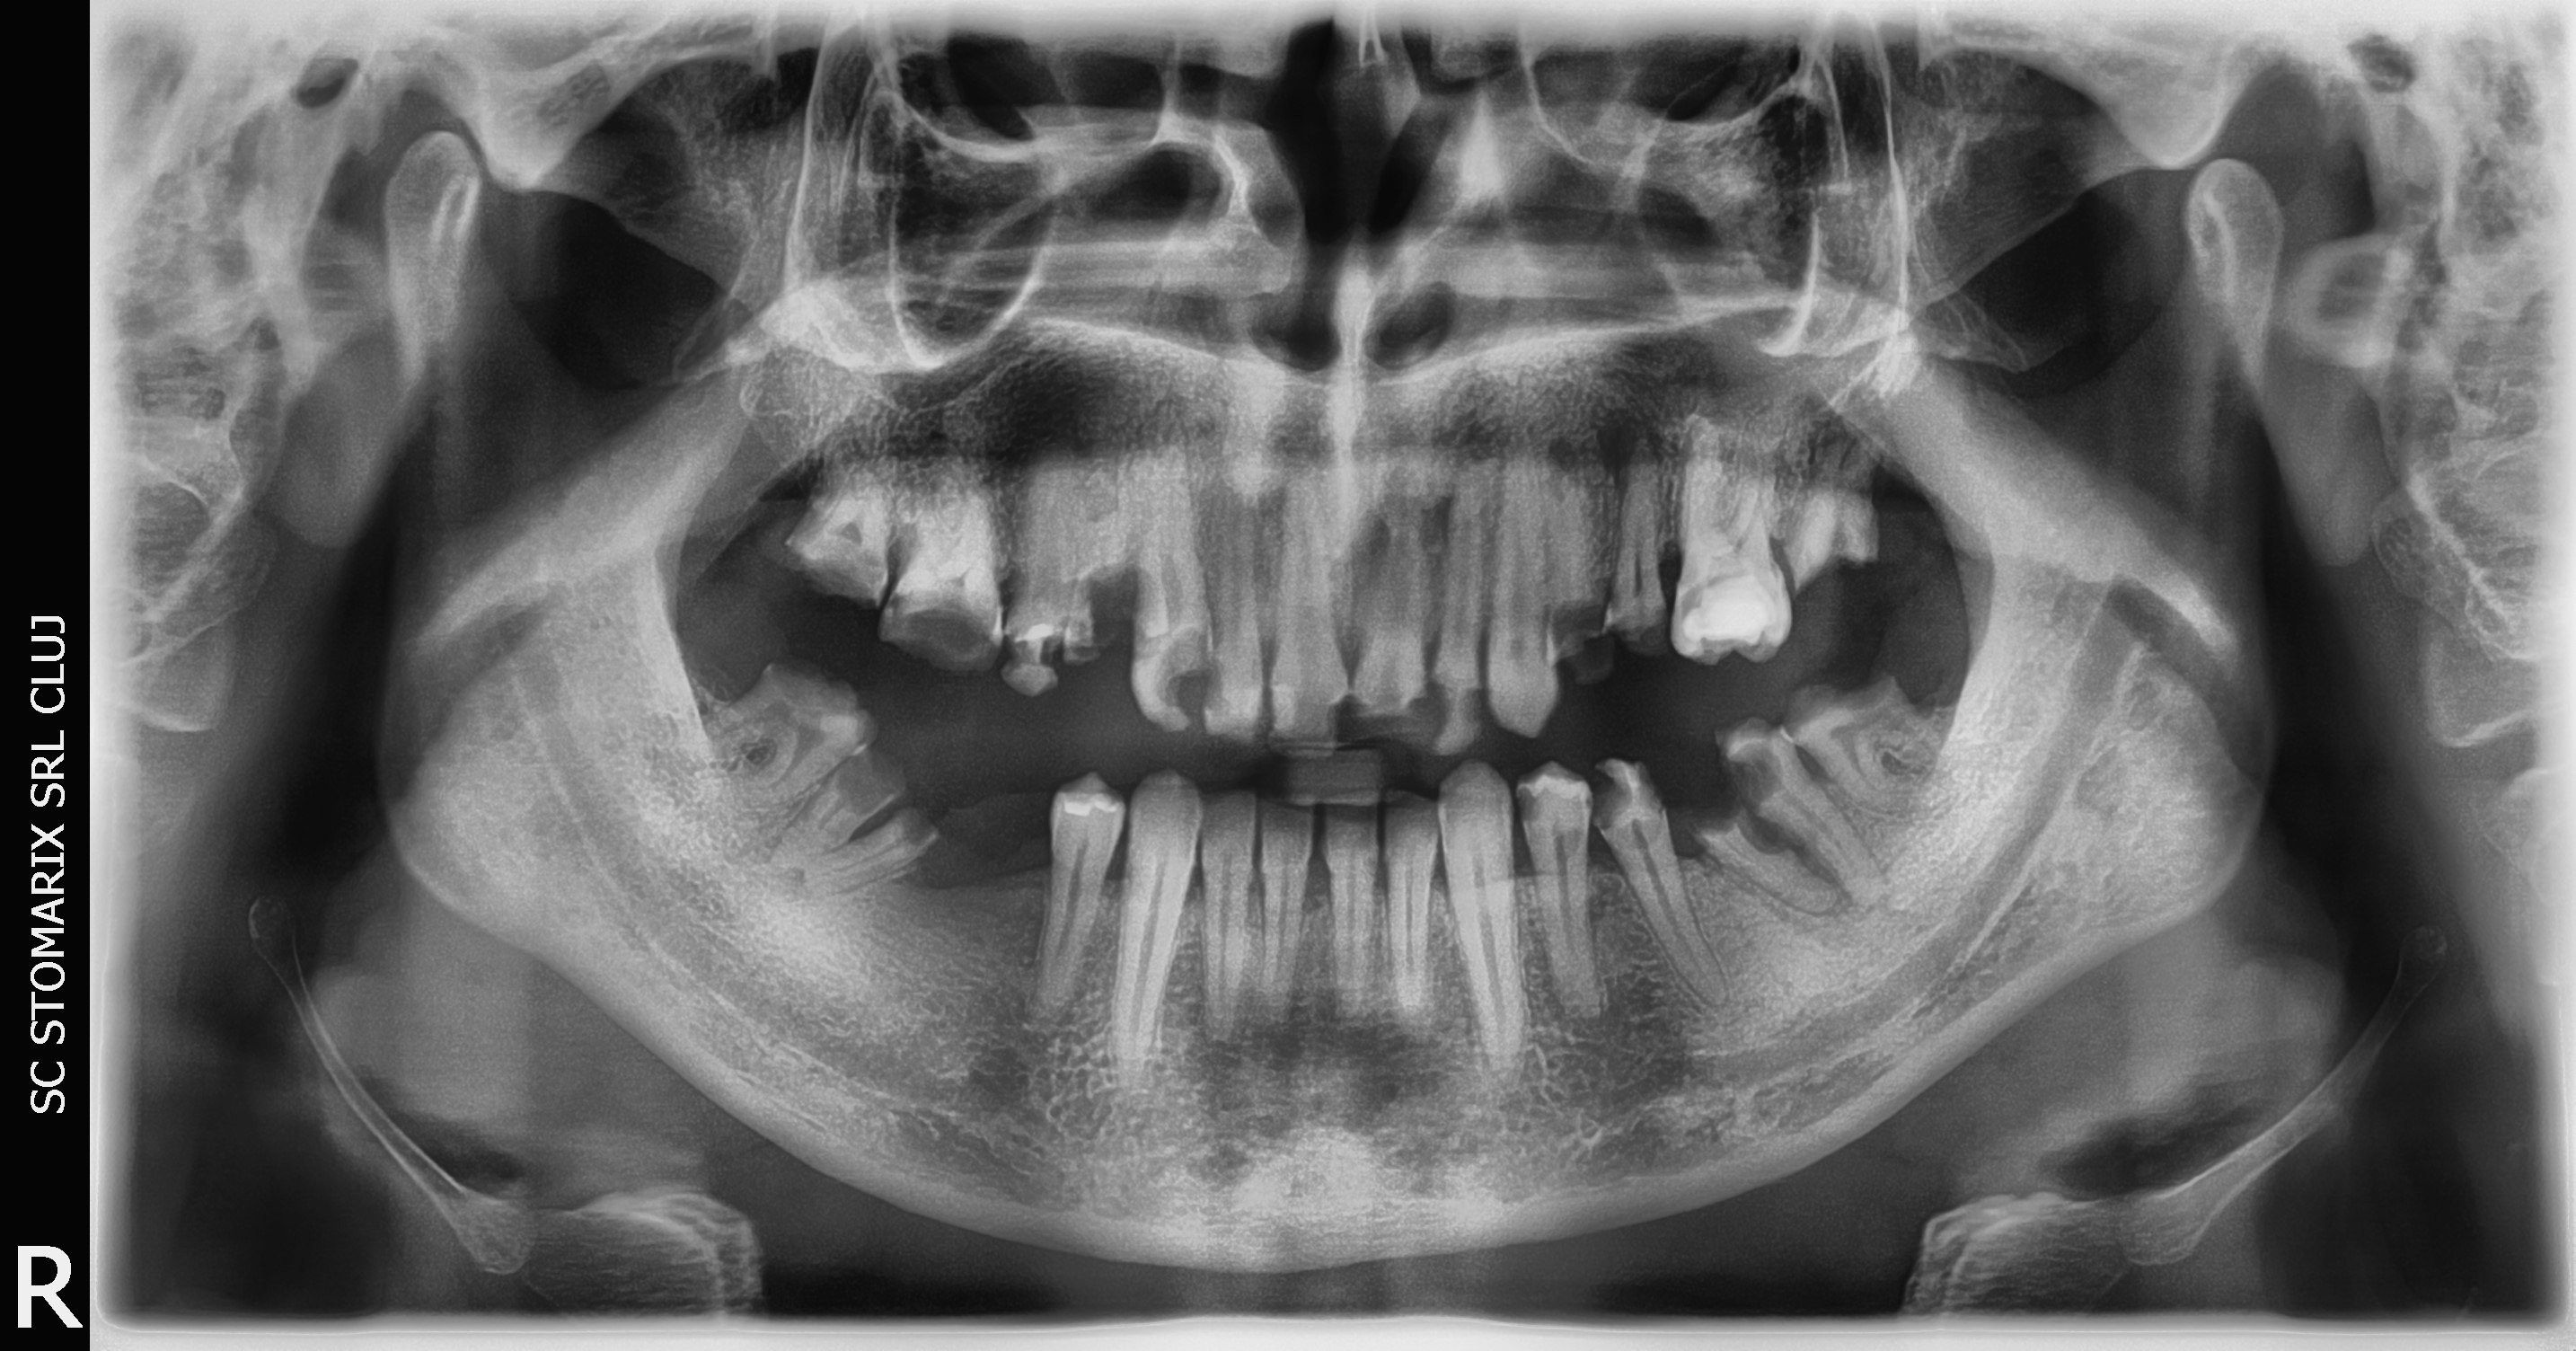API: (1583, 383, 1688, 503), (1797, 872, 1876, 956)
BON: (876, 504, 937, 571), (1649, 515, 1688, 589), (992, 559, 1034, 612)
CAR: (753, 516, 894, 608), (733, 663, 871, 746), (1784, 661, 1910, 750), (1712, 721, 1794, 818), (1535, 589, 1620, 680), (1152, 625, 1218, 731), (862, 612, 993, 664), (1371, 661, 1436, 748), (1598, 583, 1668, 654), (1414, 658, 1469, 744), (1579, 765, 1641, 835), (1445, 664, 1491, 748), (1620, 753, 1671, 825), (1307, 687, 1365, 746), (1499, 775, 1561, 830), (1032, 620, 1084, 681), (985, 627, 1036, 683), (1193, 671, 1242, 727), (1569, 794, 1596, 814)
FUR: (727, 716, 808, 782)
OBT: (1676, 559, 1785, 663), (1044, 782, 1116, 831), (1266, 675, 1302, 739)
ROT: (1699, 722, 1918, 908), (748, 746, 927, 876), (785, 797, 961, 923), (1685, 813, 1859, 930), (1049, 508, 1164, 670), (1787, 429, 1901, 579)
